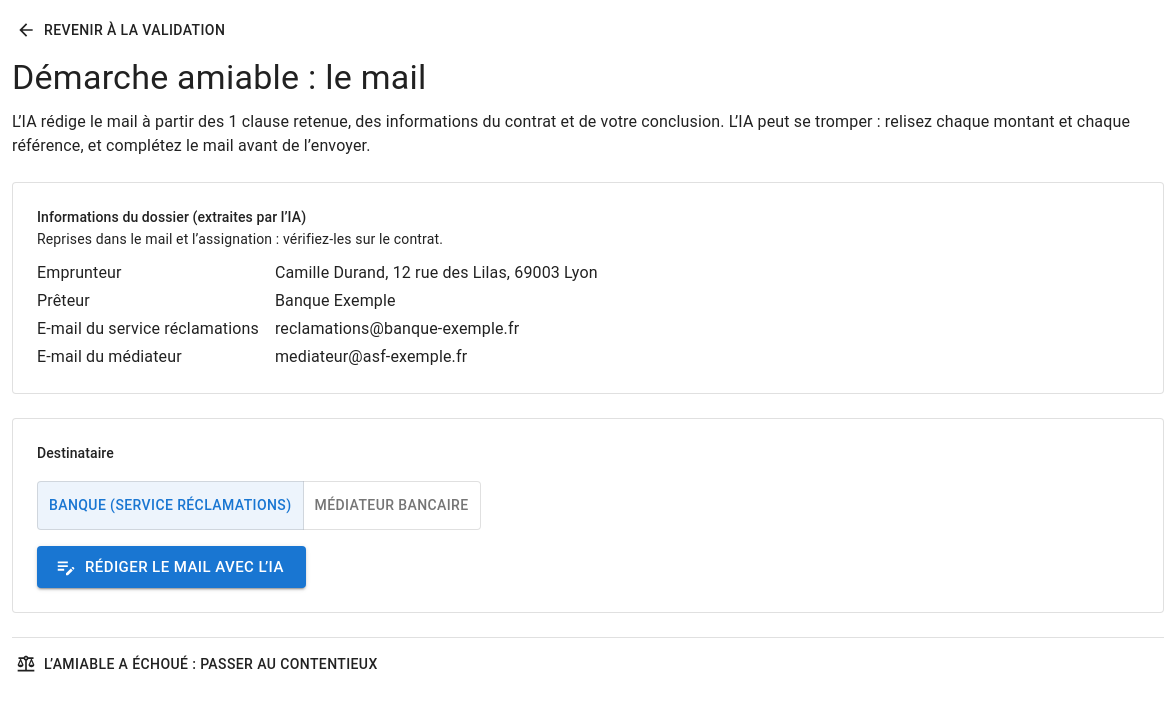
Scenario: AmicableEmailPanel › affiche l’erreur de rédaction
Click the button "Rédiger le mail avec l’IA" at (171,567), box [37,546,306,588]
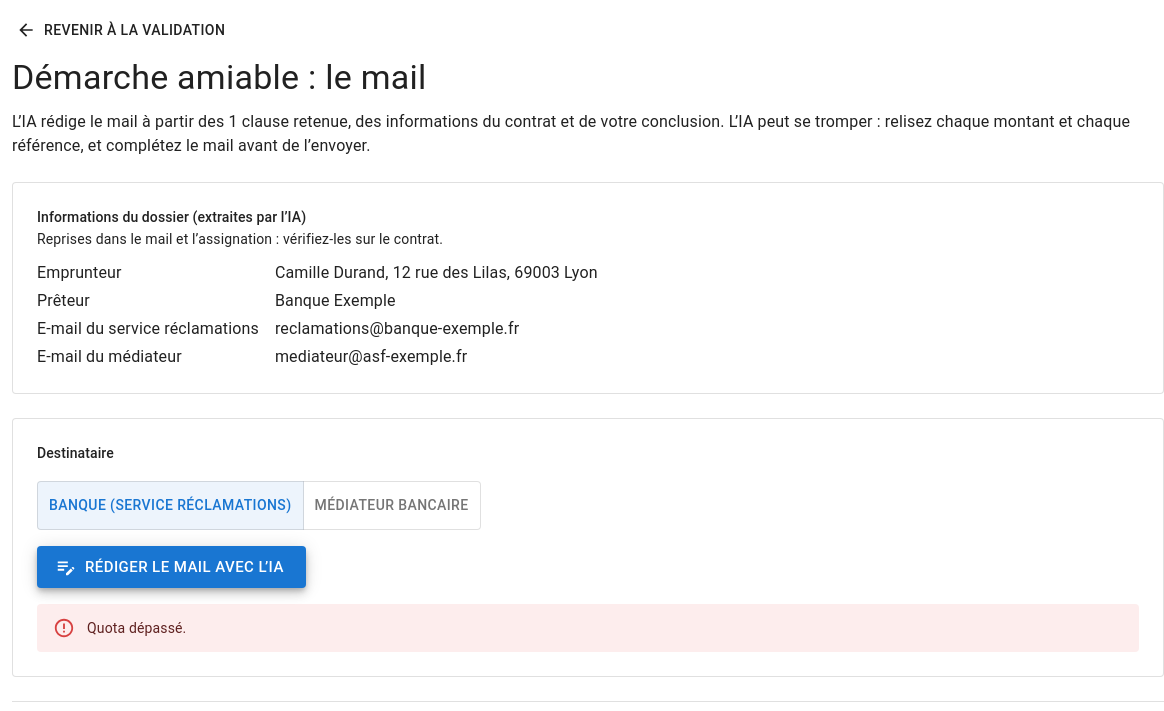
Expected: the text "Quota dépassé." is shown, [87,620,186,636]
